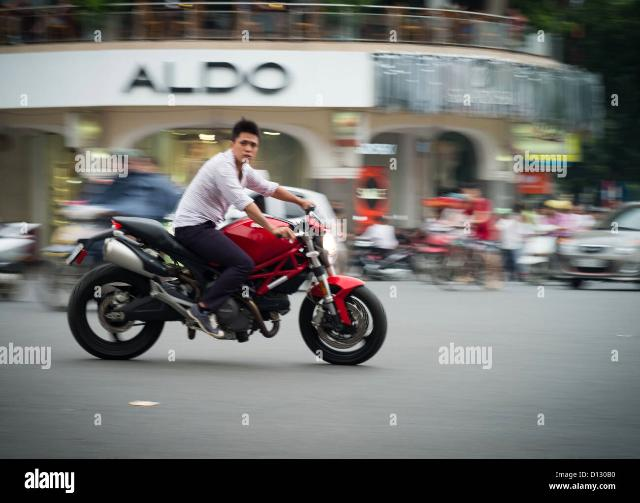motor: (61, 202, 393, 367)
non-helm: (230, 121, 259, 164)
